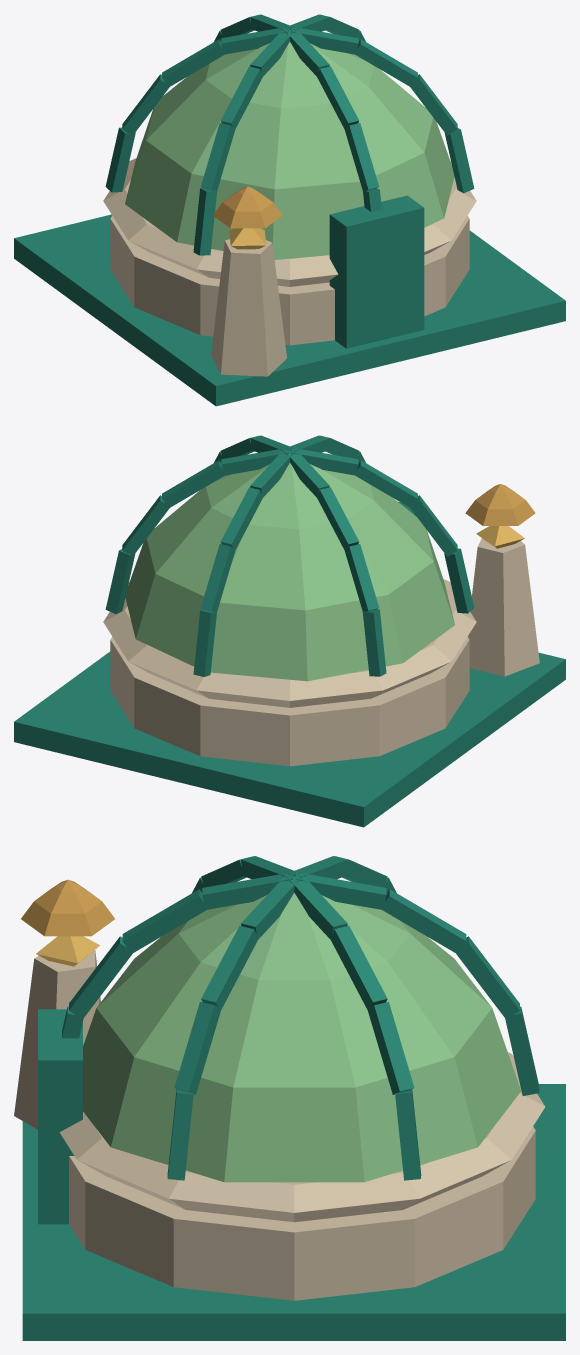
Rendered from greenhouse.gltf.
3 views of the same model, one above another, from view 1: azimuth 30°, elevation 25°; view 2: azimuth 150°, elevation 25°; view 3: azimuth 270°, elevation 25° (orthographic). The views are drawn at different scales.
Visible parts, largest first — view 1: dome, floor, door, wall, lamp; view 2: dome, floor, wall, lamp; view 3: dome, floor, wall, lamp, door.
Part boxes in pixels (<box>): dome: <box>103,14,476,286</box>; floor: <box>14,214,565,406</box>; door: <box>329,195,424,348</box>; wall: <box>110,216,469,345</box>; lamp: <box>211,186,286,376</box>; dome: <box>103,435,476,707</box>; floor: <box>14,651,565,827</box>; wall: <box>110,637,469,766</box>; lamp: <box>465,484,539,676</box>; dome: <box>59,856,545,1222</box>; floor: <box>22,1084,565,1340</box>; wall: <box>69,1126,535,1300</box>; lamp: <box>14,879,114,1129</box>; door: <box>38,1009,82,1224</box>.
Size of the model in its own units: 3.6 by 2.56 by 3.66.
